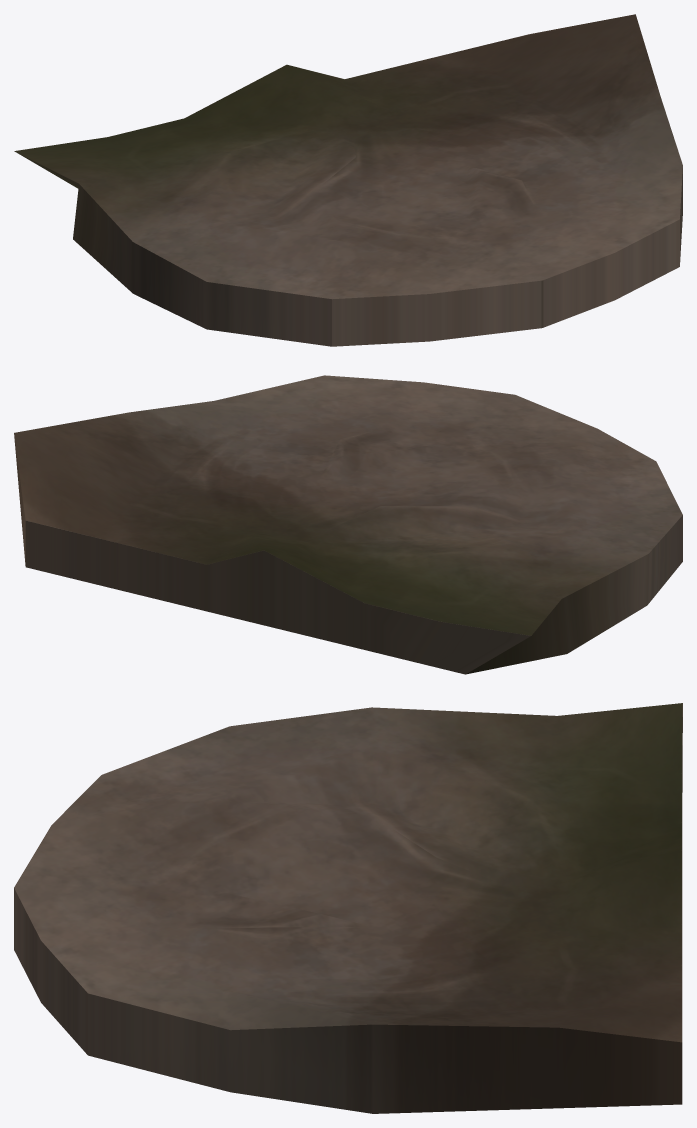
Rendered from PlatformV2.fbx.
The picture shows the model from 3 angles, top to bottom: view 1: azimuth 30°, elevation 25°; view 2: azimuth 150°, elevation 25°; view 3: azimuth 270°, elevation 25°; orthographic projection. The views are drawn at different scales.
Visible parts, largest first — view 1: platform; view 2: platform; view 3: platform.
Part boxes in pixels (<box>): platform: <box>14,14,682,346</box>; platform: <box>14,375,682,674</box>; platform: <box>14,703,682,1113</box>.
Bounding box in the file's own units: 10.01 × 1.46 × 7.73.
